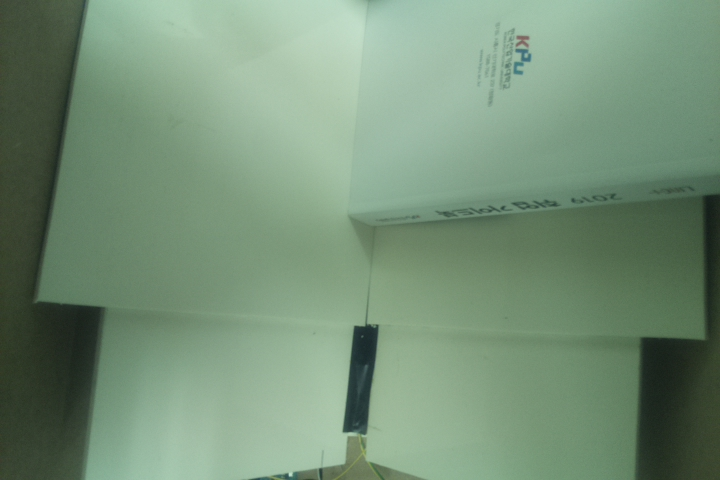book: (345, 1, 720, 230)
